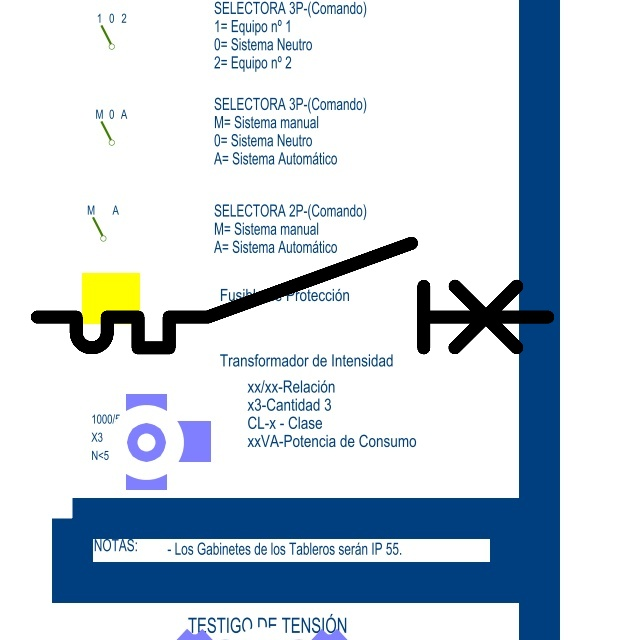interruptor_termomagnetico: (24, 230, 561, 361)
